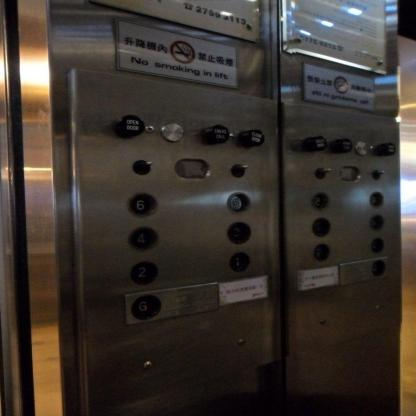1: (228, 251, 249, 271)
2: (130, 261, 158, 285)
3: (226, 221, 251, 244)
5: (127, 226, 159, 250), (227, 191, 250, 213)
6: (126, 191, 159, 219)
G: (129, 294, 162, 320)
empty: (158, 121, 186, 142)
switch: (132, 158, 152, 175), (230, 162, 248, 177), (313, 167, 331, 179), (371, 169, 385, 180)
text_CALL CANCEL: (202, 125, 229, 144)
text_blur: (303, 136, 326, 152), (330, 138, 351, 152), (376, 141, 395, 155)
text_close door: (238, 129, 264, 146)
text_open door: (112, 114, 145, 138)
unknown: (312, 218, 330, 236), (312, 192, 328, 210), (313, 243, 329, 260), (369, 191, 384, 207), (368, 215, 384, 230), (370, 237, 384, 253), (371, 260, 385, 276)
